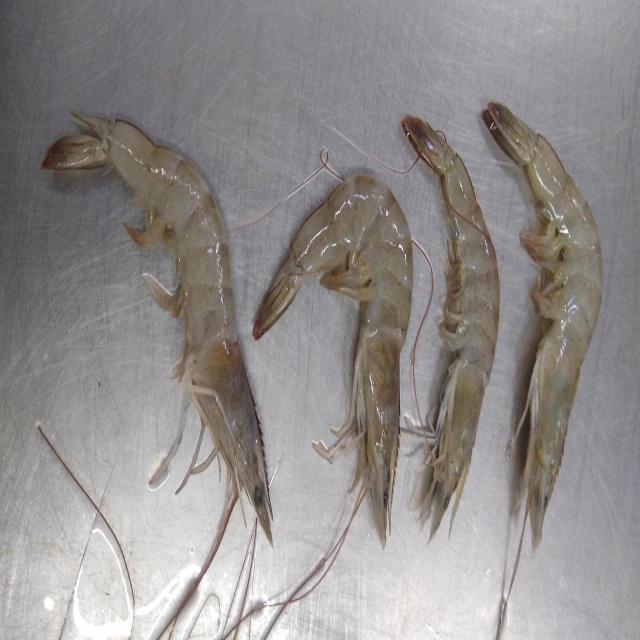shrimp: (41, 113, 272, 611), (252, 176, 412, 547), (482, 102, 602, 549), (401, 116, 500, 538)
